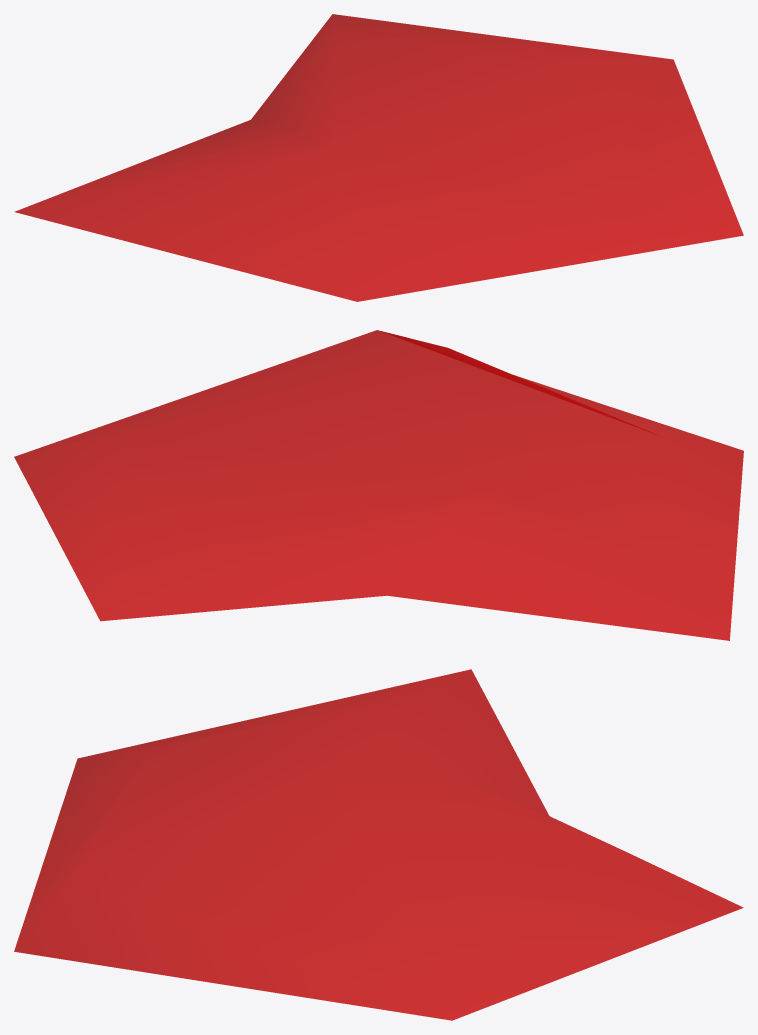
The model's file is BloodGround01.fbx.
3 views of the same model, one above another, from view 1: azimuth 30°, elevation 25°; view 2: azimuth 150°, elevation 25°; view 3: azimuth 270°, elevation 25° (orthographic). The views are drawn at different scales.
Visible parts, largest first — view 1: Sphère; view 2: Sphère; view 3: Sphère.
Boxes of the visible parts, left/top/right/bottom form: Sphère: left=14, top=14, right=743, bottom=301; Sphère: left=14, top=330, right=743, bottom=640; Sphère: left=14, top=669, right=743, bottom=1020.
Bounding box in the file's own units: 16.03 × 0.8637 × 14.07.
